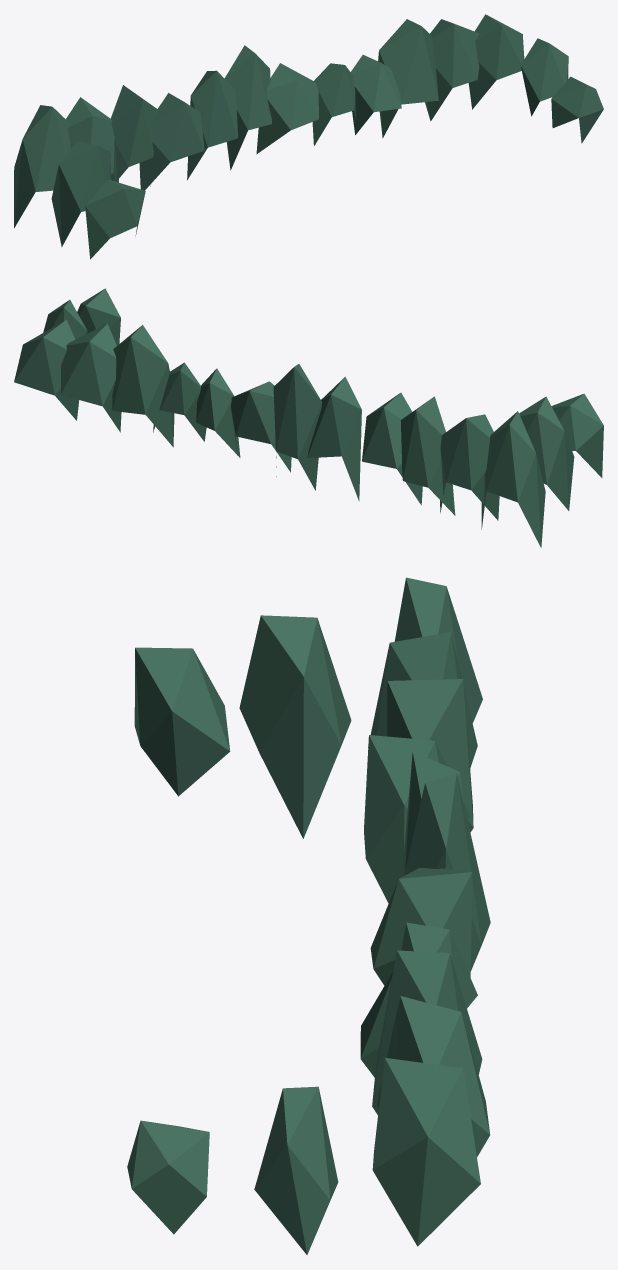
The model's file is walls.glb.
The picture shows the model from 3 angles, top to bottom: view 1: azimuth 30°, elevation 25°; view 2: azimuth 150°, elevation 25°; view 3: azimuth 270°, elevation 25°; orthographic projection. The views are drawn at different scales.
Parts seen in each view (by area): view 1: Wall; view 2: Wall; view 3: Wall.
Boxes of the visible parts, left/top/right/bottom form: Wall: left=14, top=14, right=603, bottom=259; Wall: left=14, top=288, right=603, bottom=547; Wall: left=127, top=577, right=490, bottom=1254.
Bounding box in the file's own units: 11.83 × 2.74 × 3.57.
